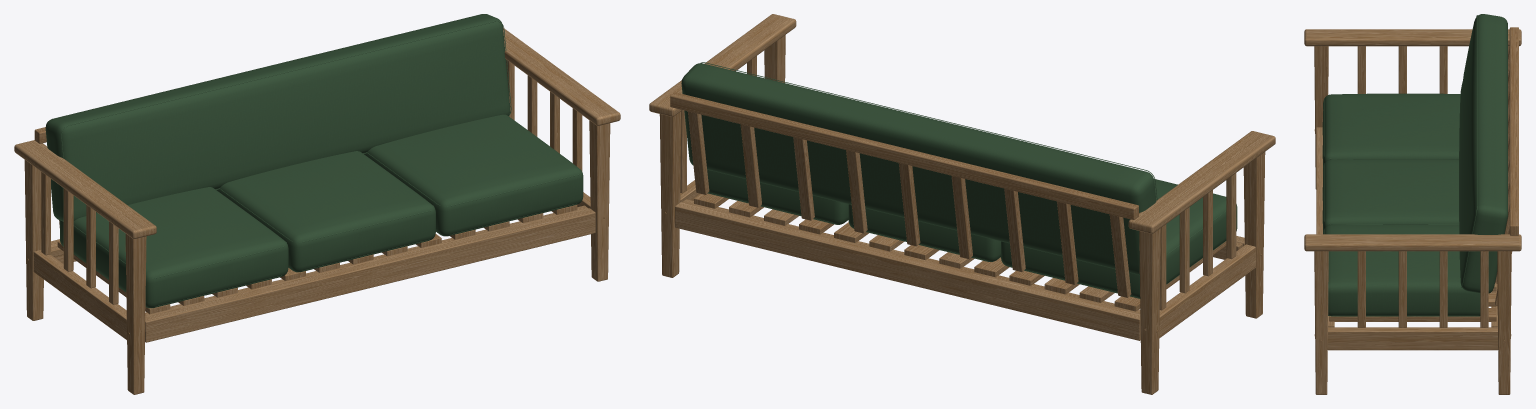
File: sofa-refined.glb
3 renders of one model, left to right at view 1: azimuth 30°, elevation 25°; view 2: azimuth 150°, elevation 25°; view 3: azimuth 270°, elevation 25°, orthographic. The views are drawn at different scales.
Parts seen in each view (by area): view 1: sofa-refined.001; view 2: sofa-refined.001; view 3: sofa-refined.001.
Boxes of the visible parts, x1,y1,x2,y2 form: sofa-refined.001: [14, 14, 620, 394]; sofa-refined.001: [649, 14, 1275, 394]; sofa-refined.001: [1304, 14, 1521, 394].
Size of the model in its own units: 2 by 0.78 by 0.85.
4 materials, 2 textured.
